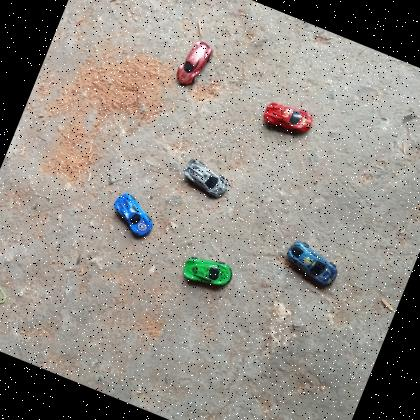Car: (279, 236, 346, 292), (177, 248, 237, 298), (105, 189, 161, 242), (175, 154, 234, 202), (258, 94, 316, 140), (173, 36, 217, 92)
